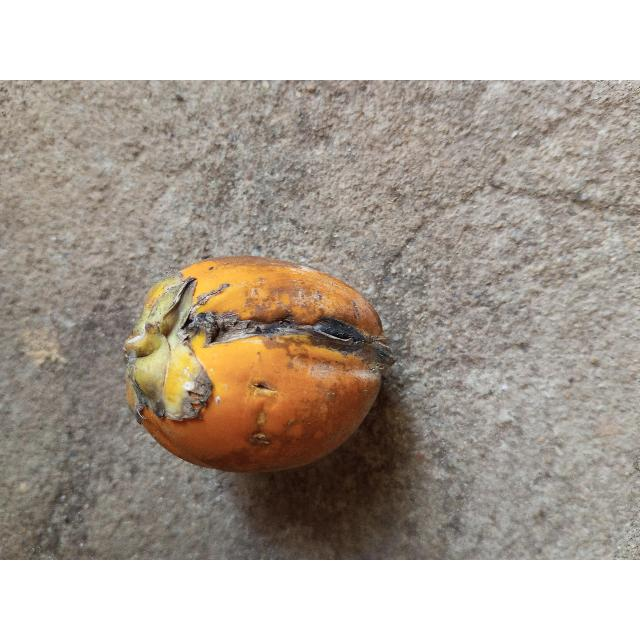damaged: (124, 256, 395, 472)
